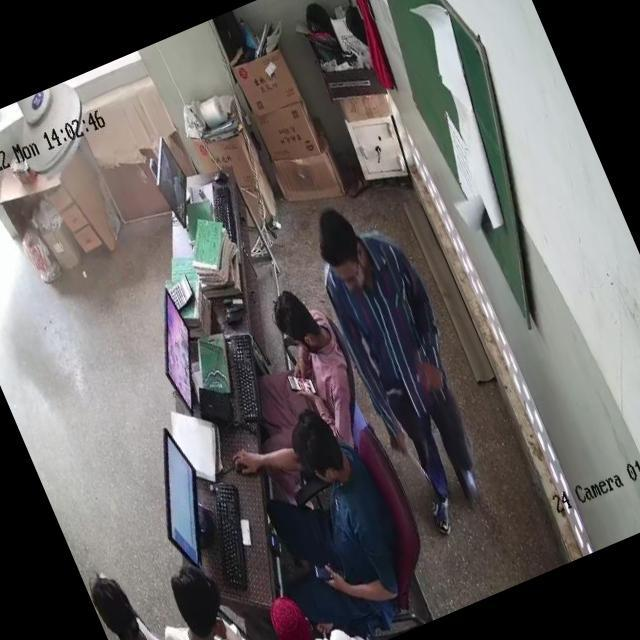person: (299, 196, 499, 520), (230, 400, 404, 618), (231, 284, 358, 431), (144, 551, 263, 640), (87, 558, 196, 640), (252, 580, 347, 640)
